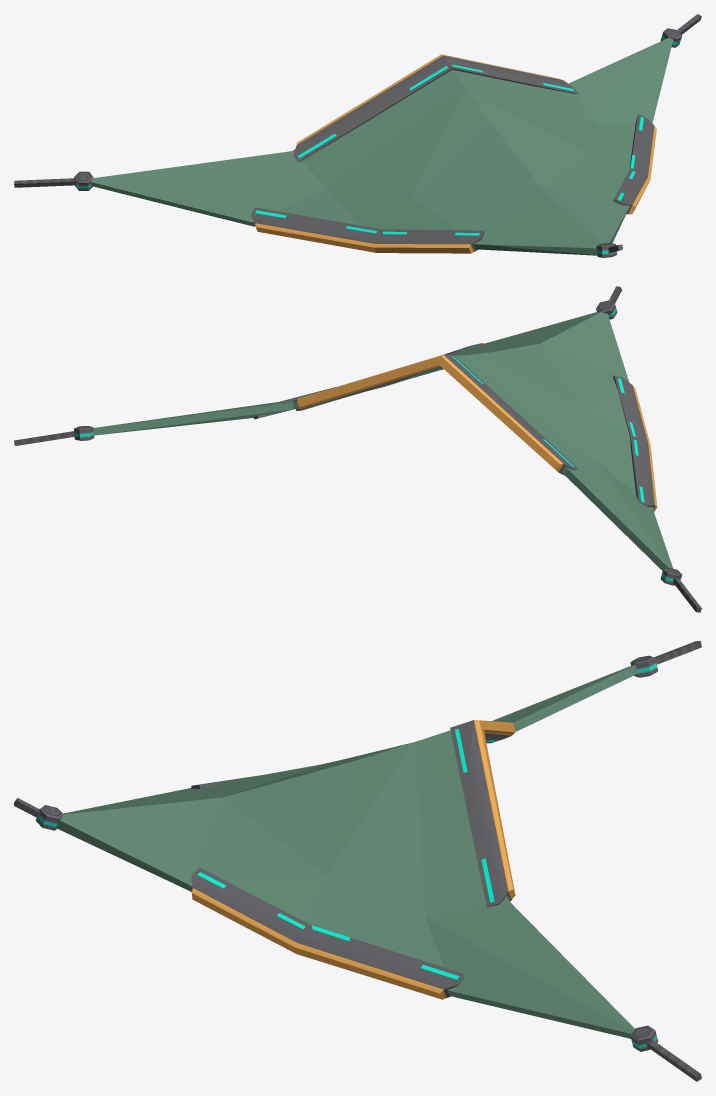
File: SM_Prop_Canopy_05.fbx
3 views of the same model, one above another, from view 1: azimuth 30°, elevation 25°; view 2: azimuth 150°, elevation 25°; view 3: azimuth 270°, elevation 25° (orthographic). The views are drawn at different scales.
Parts seen in each view (by area): view 1: SM_Prop_Canopy_05; view 2: SM_Prop_Canopy_05; view 3: SM_Prop_Canopy_05.
Part boxes in pixels (box(x1,y1,x2,y2)): SM_Prop_Canopy_05: box(14, 14, 701, 257); SM_Prop_Canopy_05: box(14, 286, 701, 612); SM_Prop_Canopy_05: box(14, 641, 701, 1081).
Size of the model in its own units: 826 by 137 by 551.
